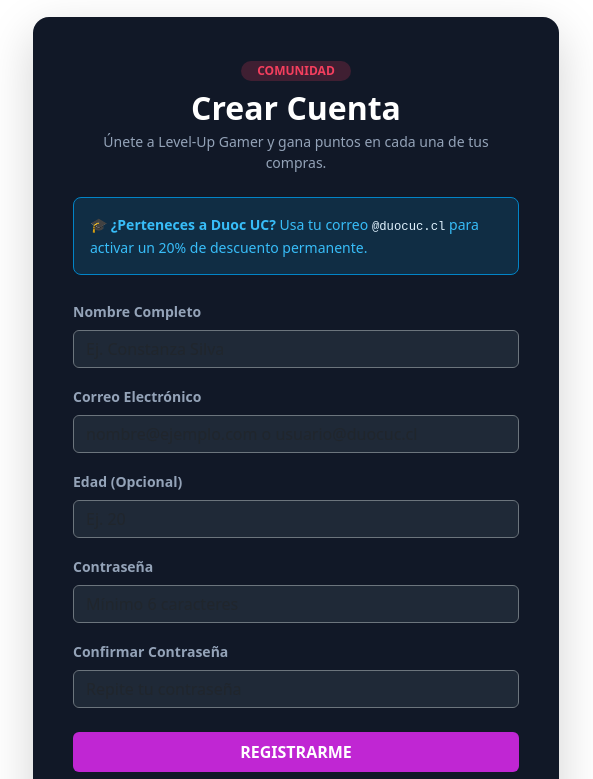
it: <Registrar /> › debe mostrar un error y no registrar si las contraseñas no coinciden
The width and height of the screenshot is (593, 779).
# Llenar el formulario con contraseñas diferentes
Type "Juan Perez" into the field with placeholder "Ej. Constanza Silva" at (296, 349), box [73,330,519,368]
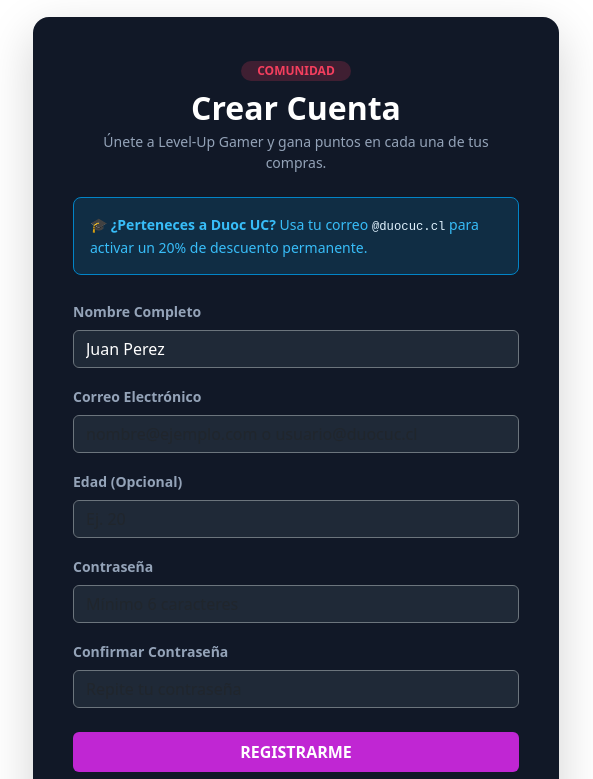
Type "juan@test.com" into the field with placeholder "nombre@ejemplo.com o usuario@duocuc.cl" at (296, 434), box [73,415,519,453]
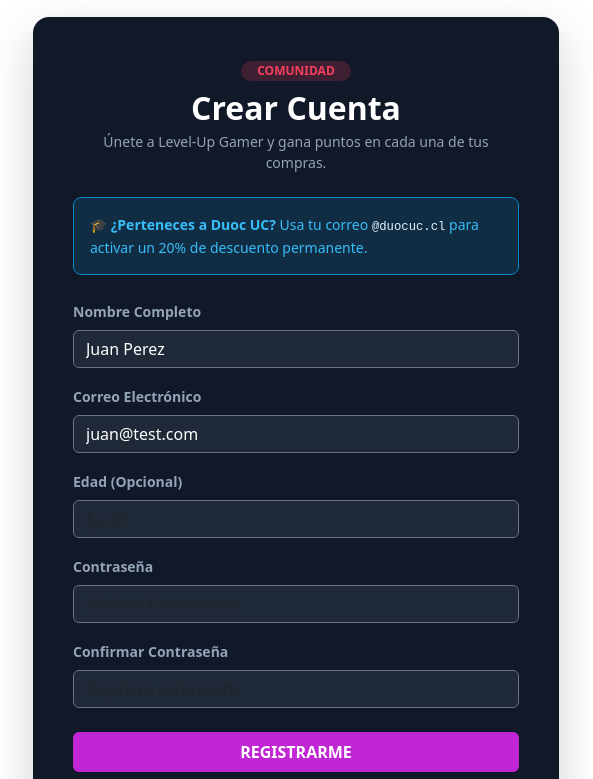
Type "clave123" into the password field with placeholder "Mínimo 6 caracteres" at (296, 604), box [73,585,519,623]
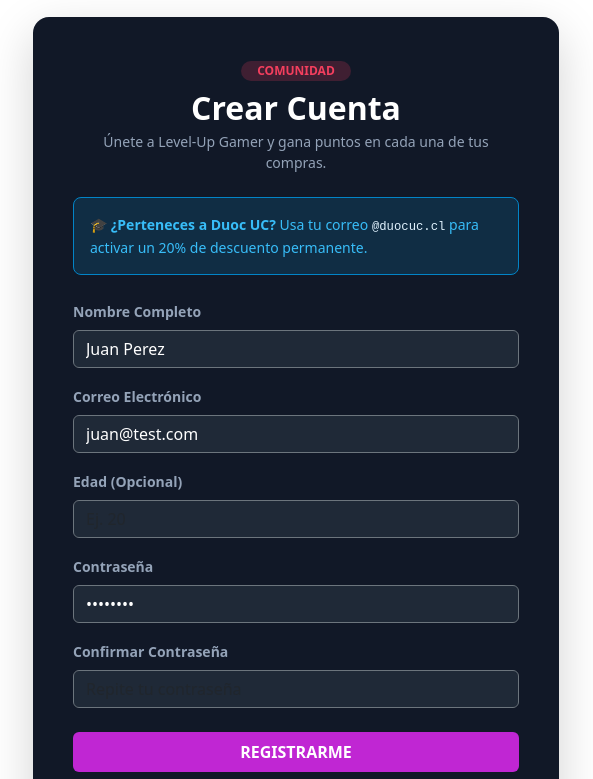
Type "claveDiferente" into the password field with placeholder "Repite tu contraseña" at (296, 689), box [73,670,519,708]
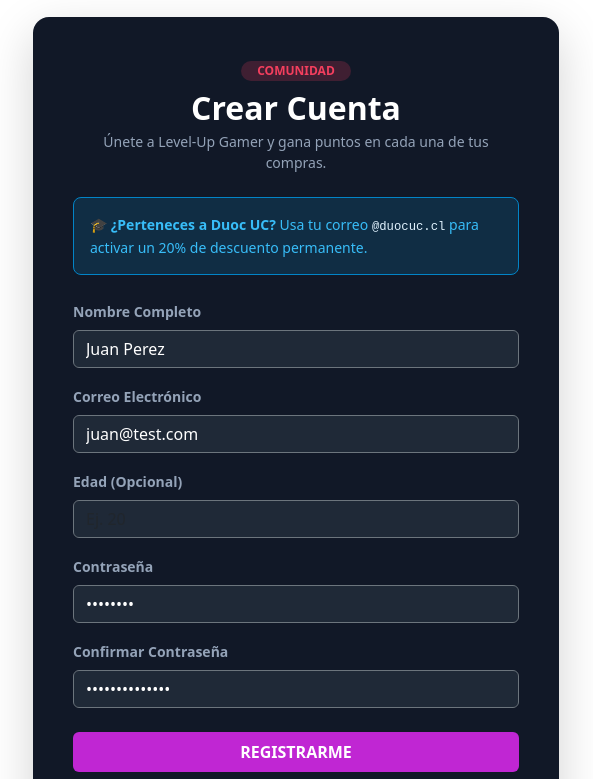
Click the button "Registrarme" at (296, 752), box [73,732,519,772]
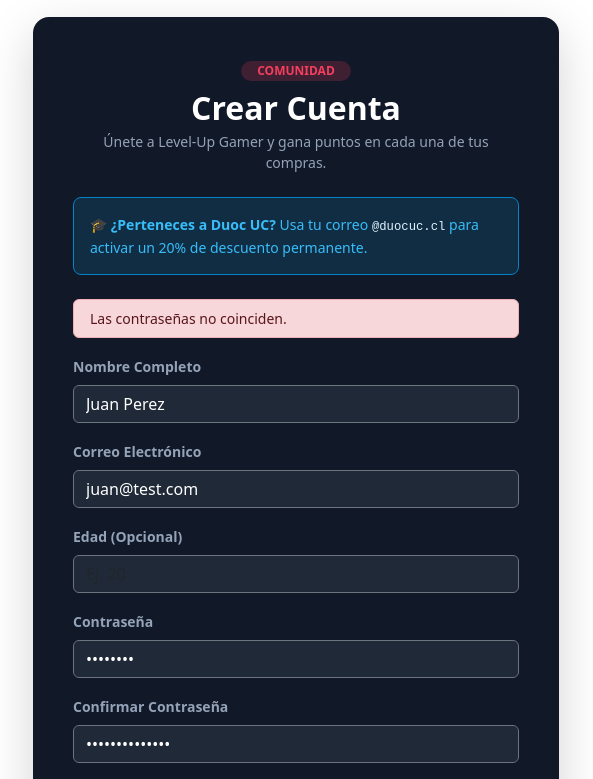
Expected: the text "Las contraseñas no coinciden." is shown, [73,299,519,338]
